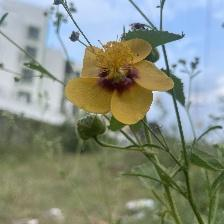indian mallow: (67, 39, 177, 127)
